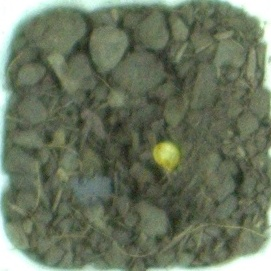pepper seed: (60, 53, 243, 225)
